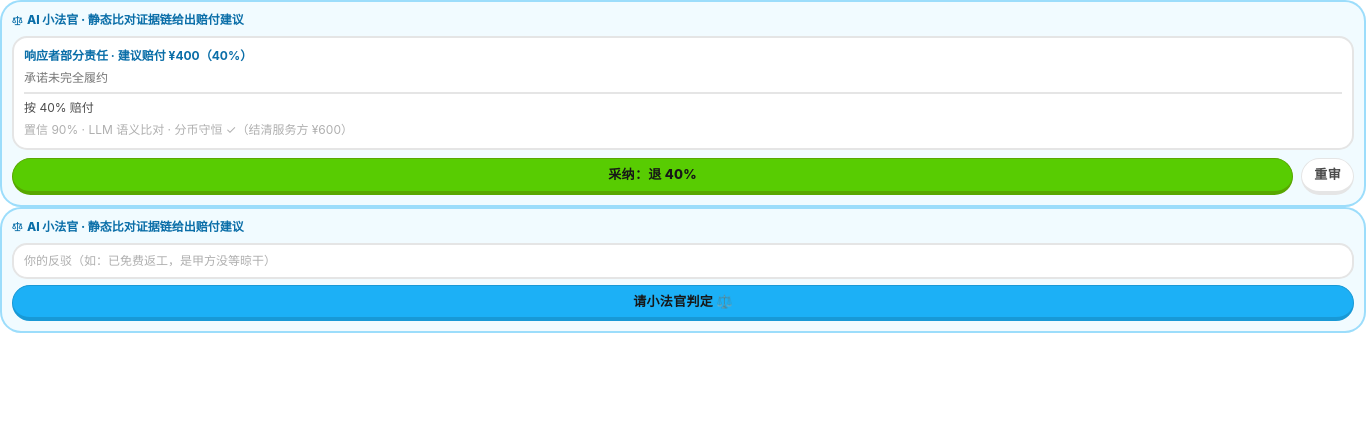
Test case: JudgePanel 守恒结算展示（方向 1 接线 B · 红线 1） › fractional cents 以两位小数展示（refundCents=33333 → ¥333.33）
The width and height of the screenshot is (1366, 430).
Click the button "请小法官判定 ⚖️".
click(683, 303)  # box [12,284,1354,321]
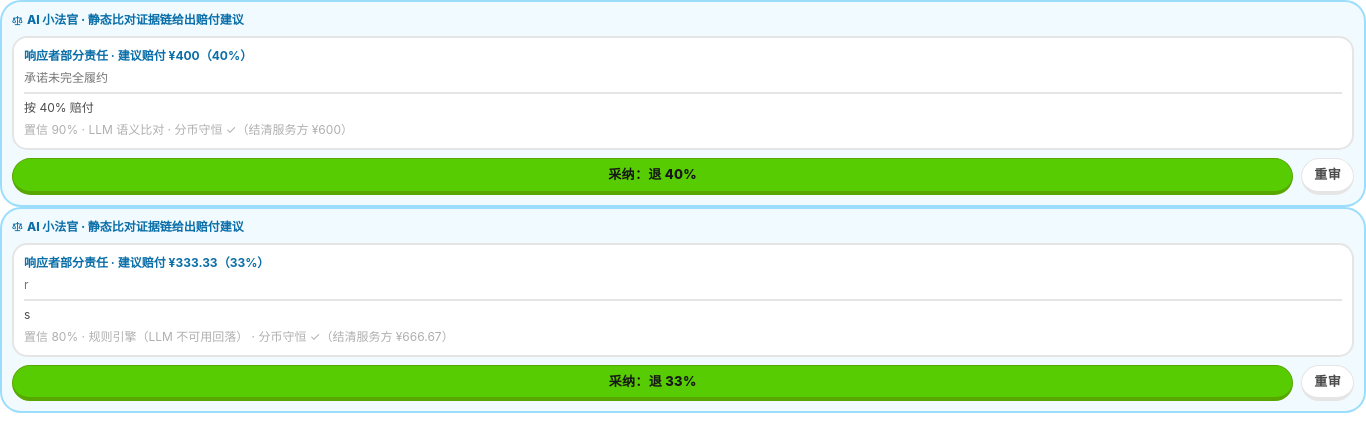
Check: the text "¥333.33" is shown, box [24,254,269,270]
Check: the text "结清服务方 ¥666.67" is shown, box [248,328,454,344]
